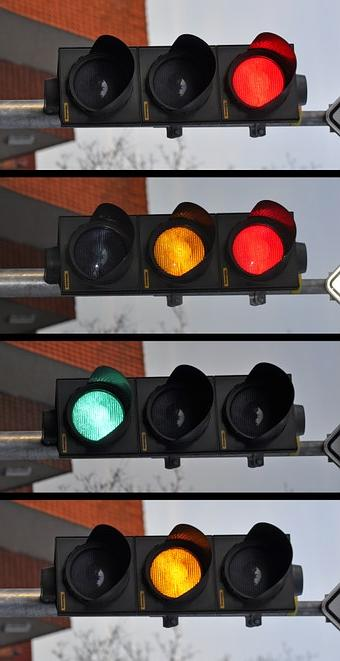trafic: (61, 33, 297, 130), (59, 200, 295, 297), (58, 360, 294, 457), (57, 527, 293, 624)
